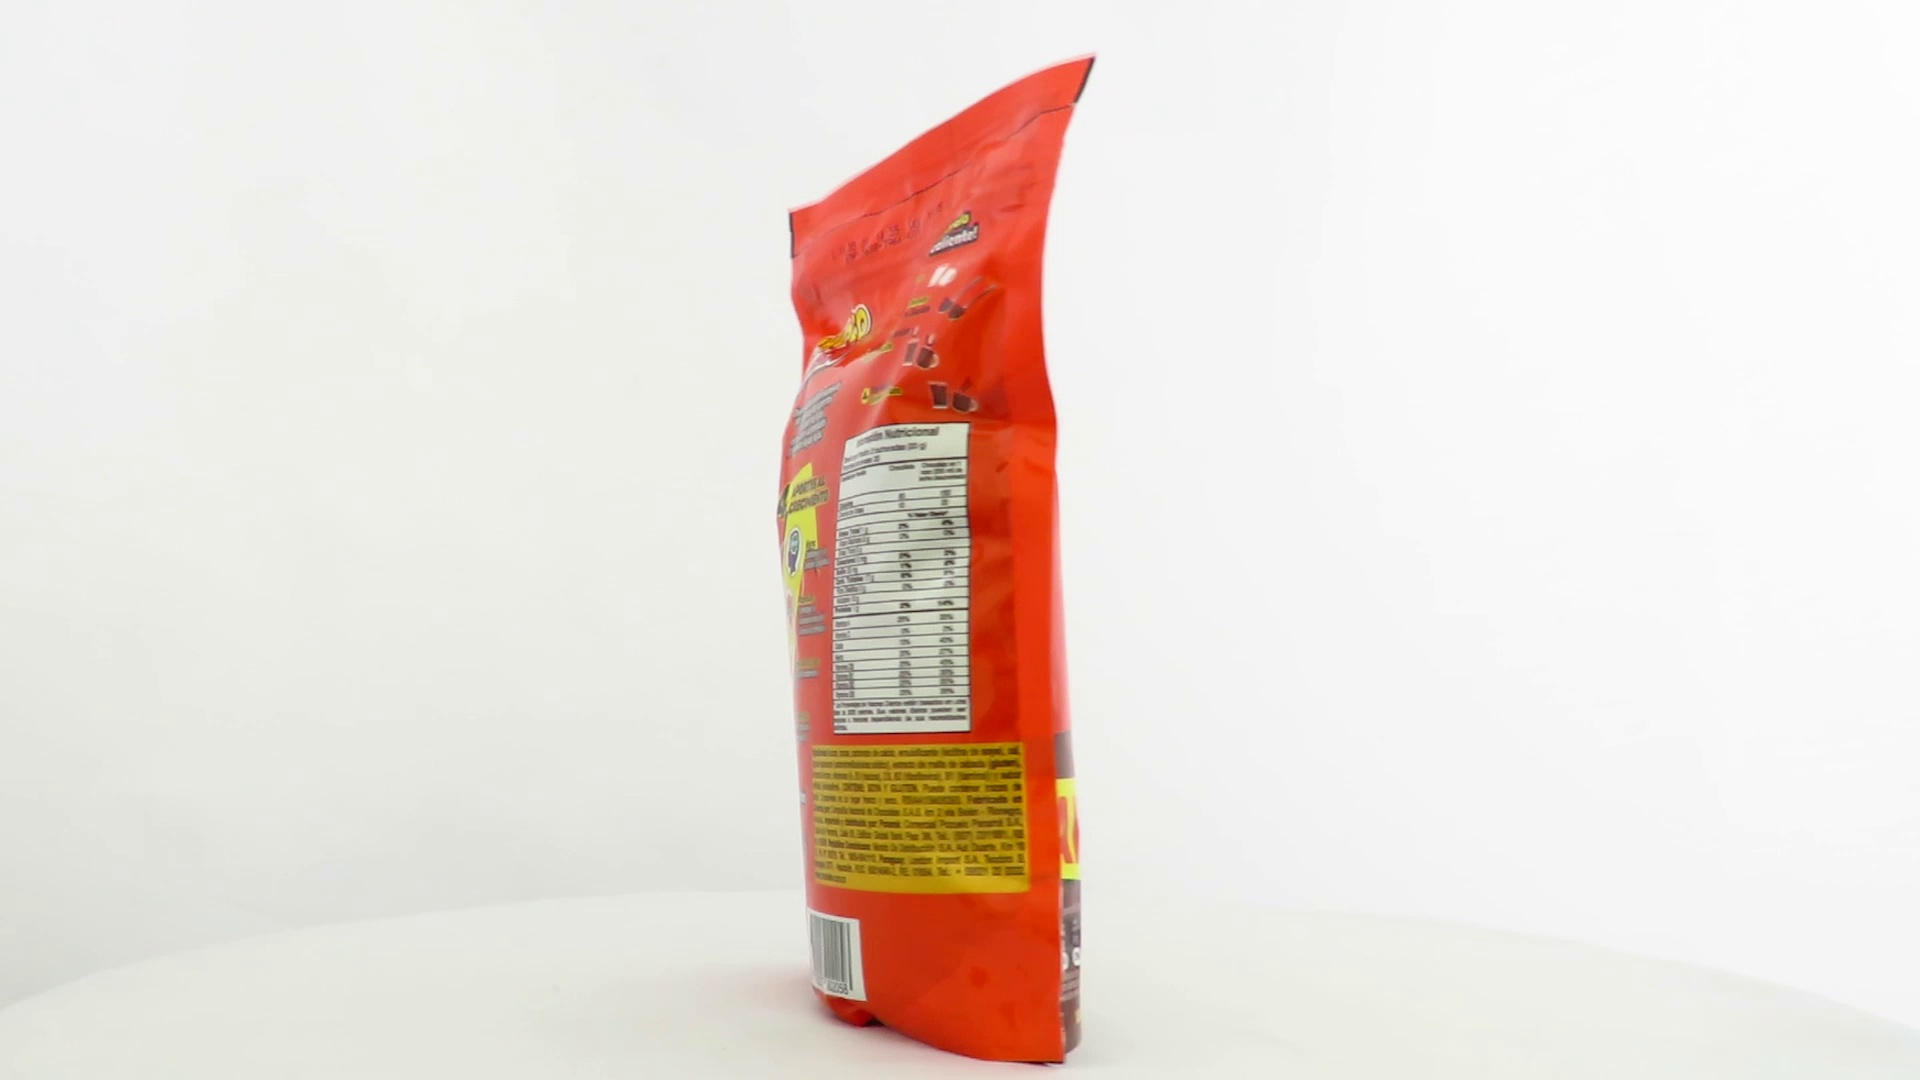COL0170103DYP40000: (771, 51, 1110, 1077)
